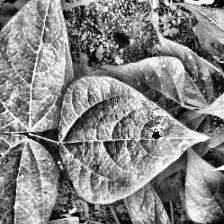Bean Rust: (58, 75, 210, 205), (0, 0, 72, 133), (0, 132, 59, 224), (101, 55, 187, 117)
